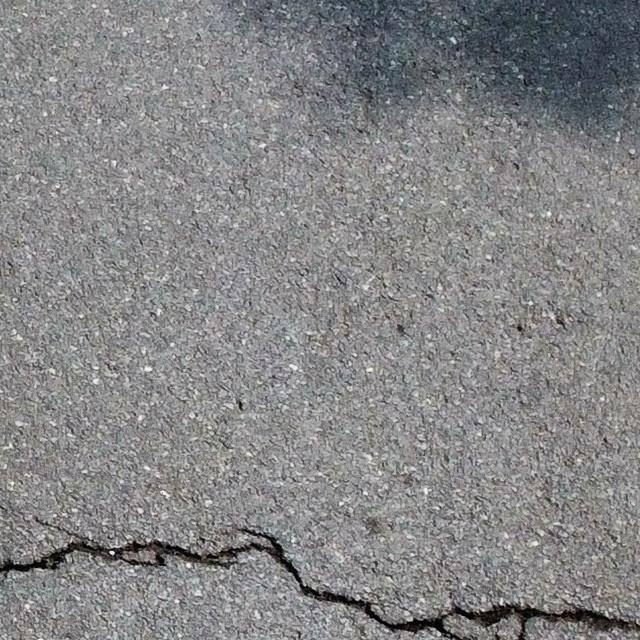TransverseCrack: (2, 527, 640, 640)
